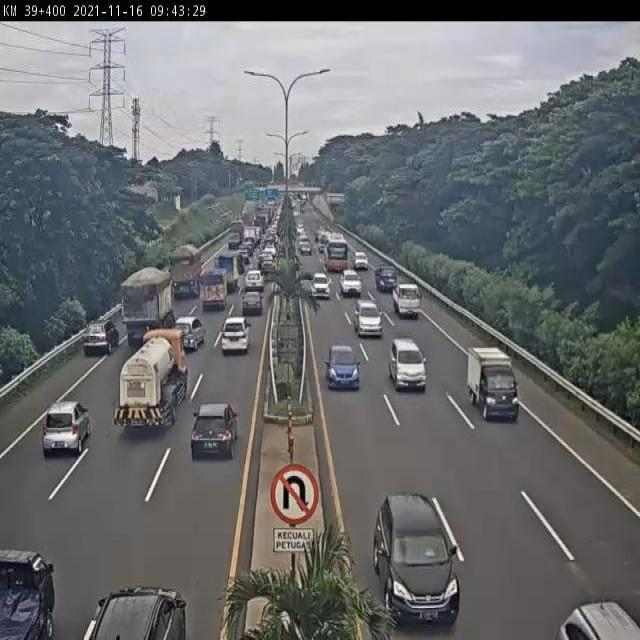car: (371, 494, 463, 626), (42, 401, 89, 459), (190, 400, 237, 456), (388, 336, 428, 389), (326, 342, 361, 394), (83, 317, 121, 359), (354, 294, 384, 338), (221, 314, 251, 358), (392, 281, 424, 320), (340, 266, 362, 298), (373, 262, 398, 290), (310, 272, 333, 301), (242, 288, 264, 317)
small truck: (467, 340, 521, 421), (199, 265, 228, 311)
truck-m-: (114, 327, 190, 432), (122, 265, 175, 347), (170, 240, 205, 292)
